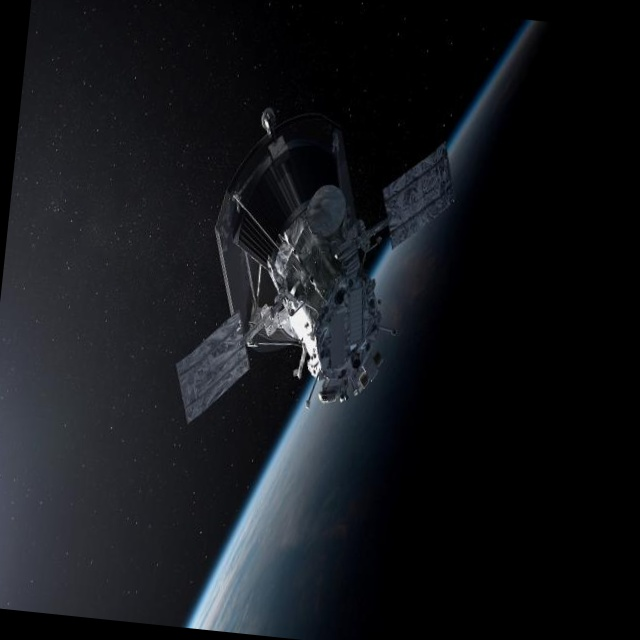medium_debris: (159, 82, 467, 464)
